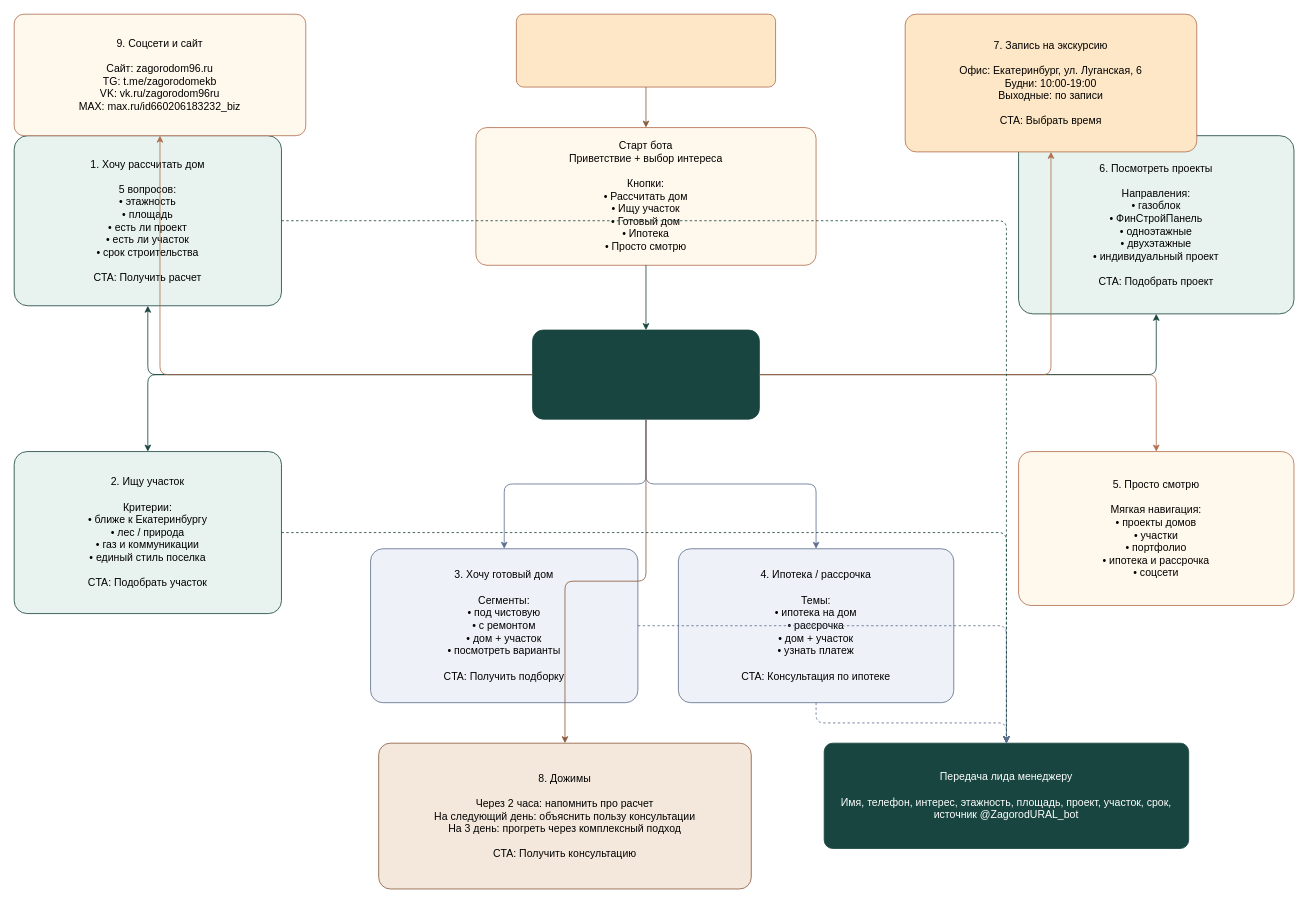
Some shapes in this 1308 by 903 pixel diagram are drawn without their labels. Each missing label, with the box of its shape:
Воронка Telegram-бота @ZagorodURAL_bot: (532, 329, 759, 419)
Цель Заявка на расчет, консультацию или экскурсию: (516, 13, 776, 87)
